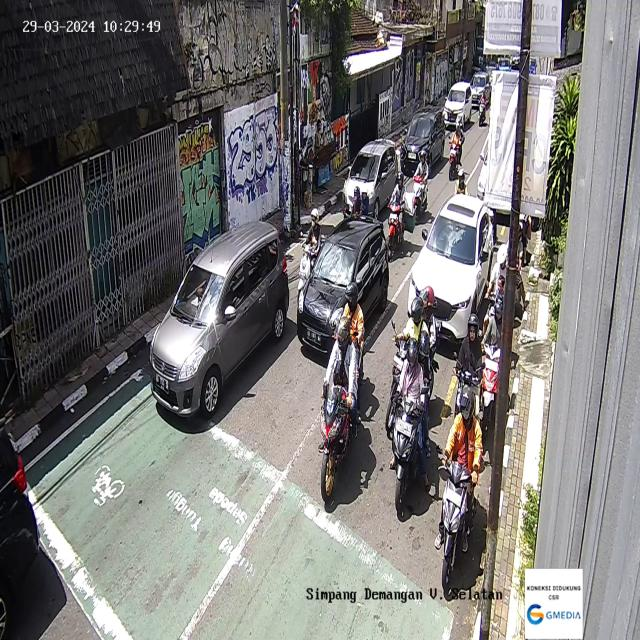car: (149, 220, 290, 418), (296, 213, 389, 356), (407, 192, 494, 344), (342, 138, 398, 220), (400, 107, 445, 177), (442, 81, 472, 129)
motorcycle: (435, 386, 485, 586), (384, 285, 440, 439), (390, 329, 430, 517), (318, 320, 359, 500), (452, 314, 482, 432), (482, 296, 503, 442), (386, 172, 416, 256), (297, 207, 322, 304), (413, 149, 428, 217), (448, 121, 464, 177), (478, 90, 487, 129)
